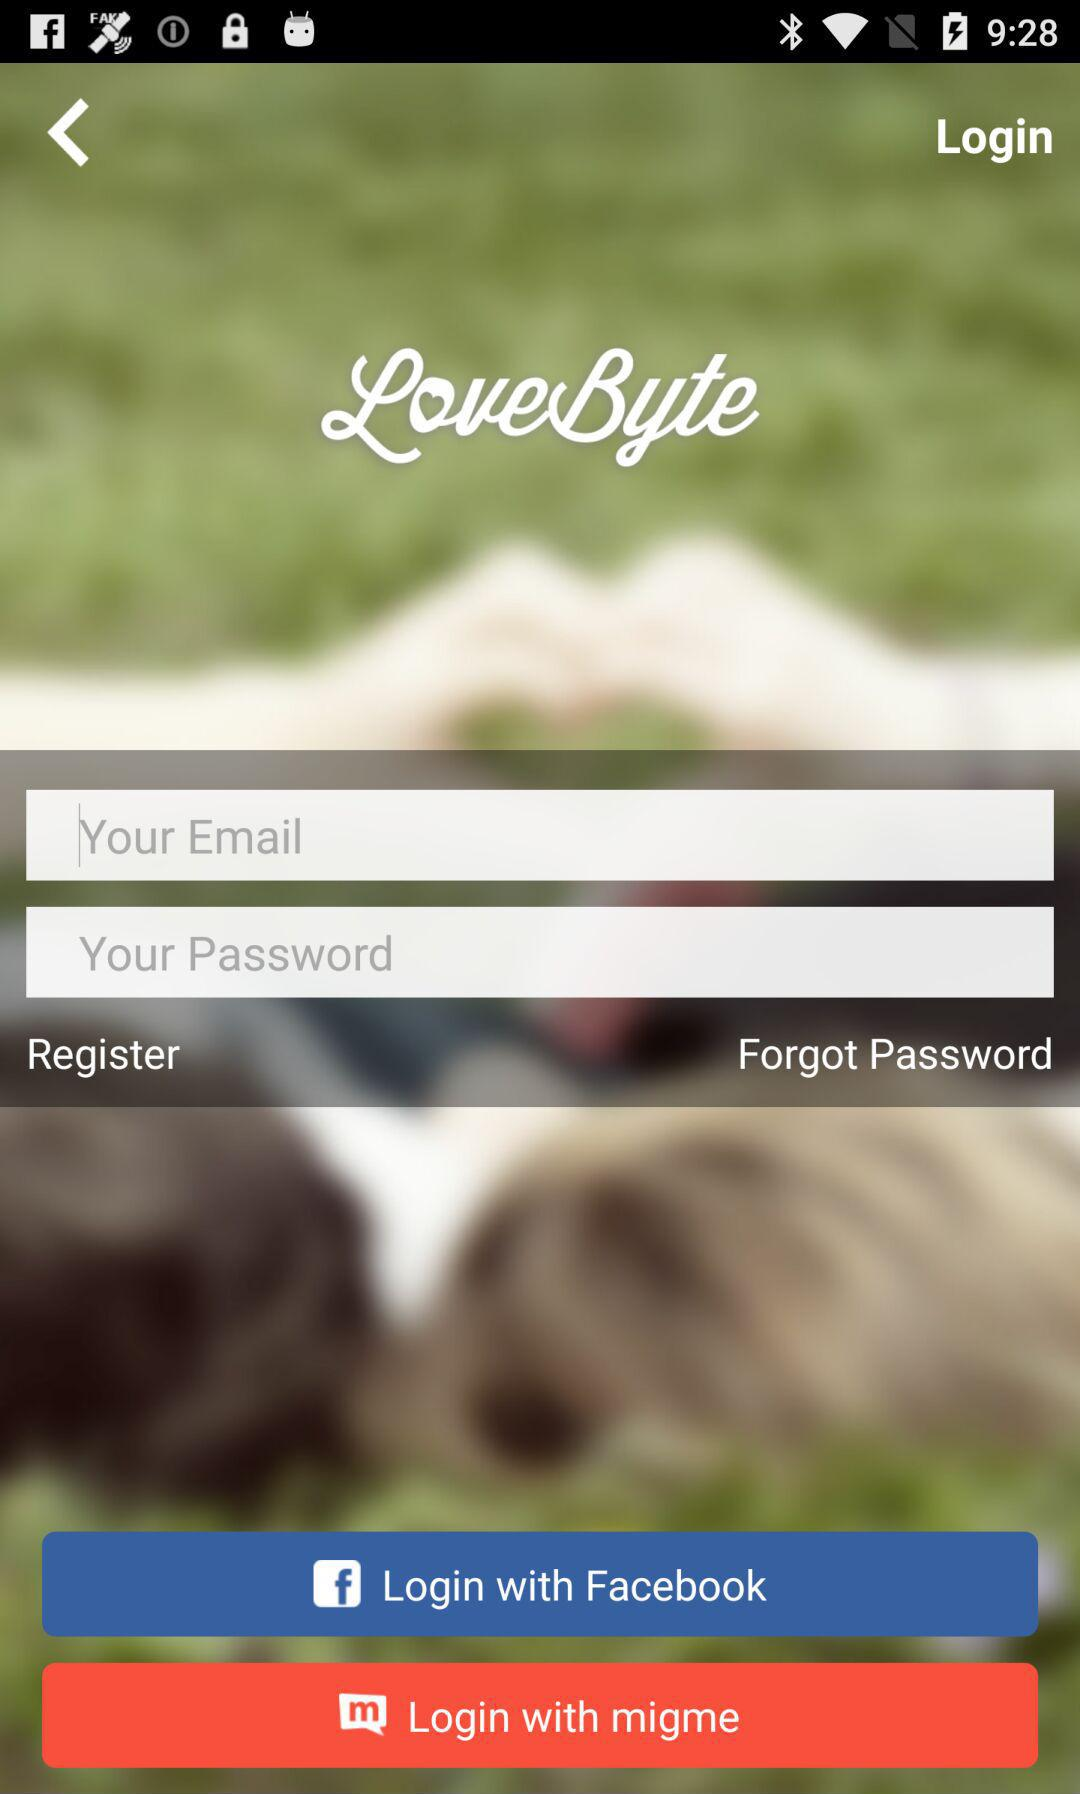BackgroundImage: (1, 64, 1080, 1794)
EditText: (26, 789, 1054, 882), (26, 907, 1054, 1000)
Icon: (46, 97, 92, 169)
Image: (320, 347, 762, 470)
Text: (739, 1035, 1052, 1080), (79, 934, 393, 973), (79, 818, 302, 857), (29, 1037, 182, 1080), (937, 117, 1053, 167)
TextButton: (42, 1661, 1039, 1768), (42, 1531, 1038, 1636)
UpperTaskBar: (1, 1, 1080, 64)
